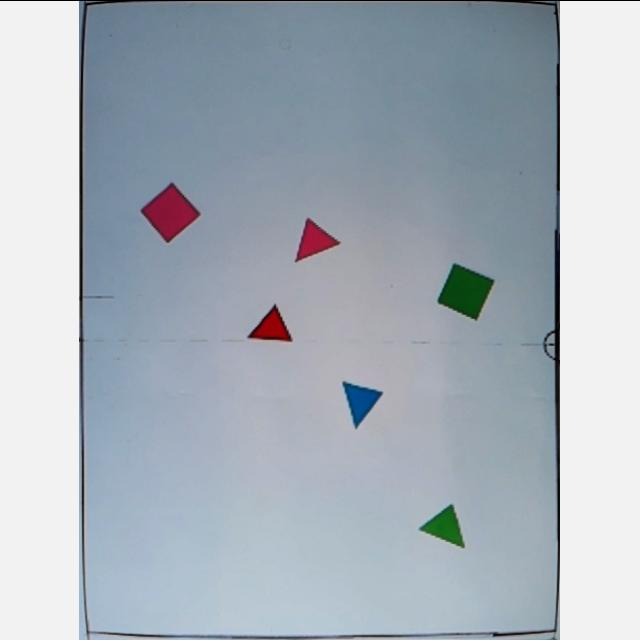blueTriangle: (343, 379, 387, 428)
greenSquare: (437, 261, 495, 319)
greenTriangle: (418, 502, 468, 552)
pinkSquare: (142, 182, 202, 242)
pinkTriangle: (291, 216, 341, 264)
redTriangle: (247, 304, 296, 346)
